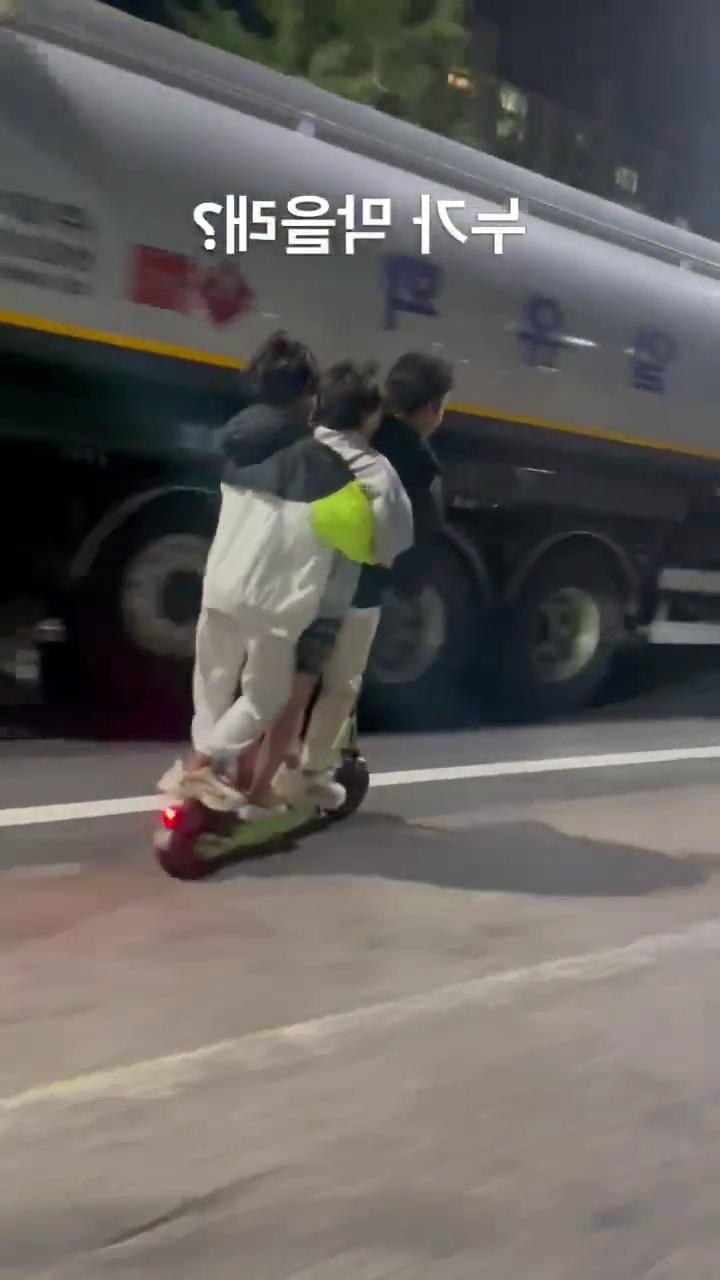multiple: (146, 327, 465, 891)
